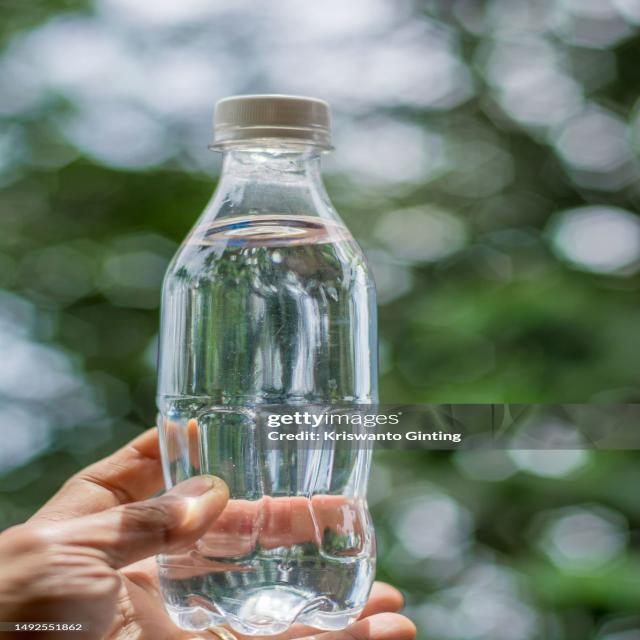bottle: (150, 90, 382, 640)
